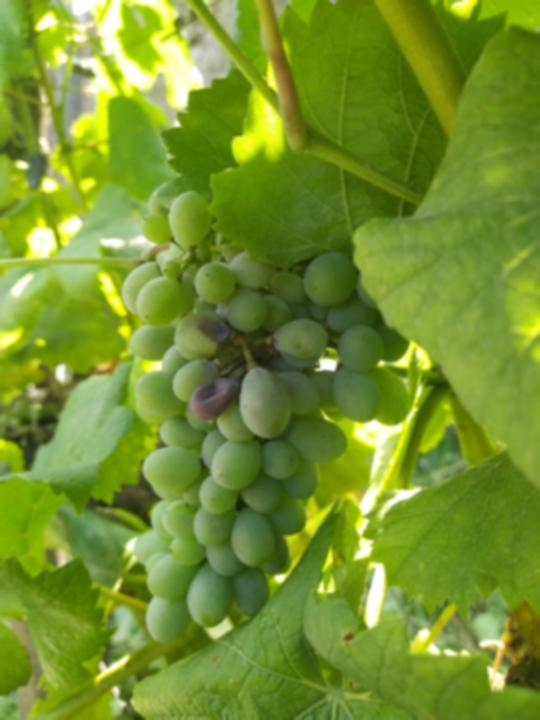grape: (119, 181, 413, 646)
